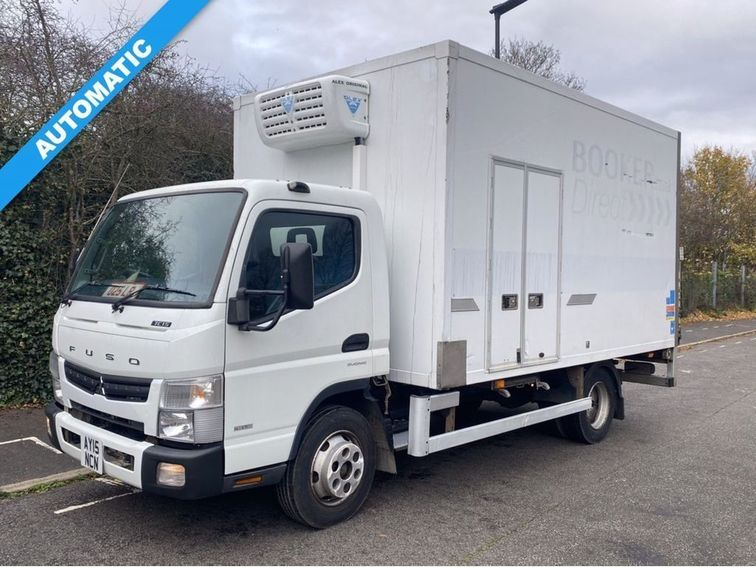Semi: (42, 40, 681, 527)
